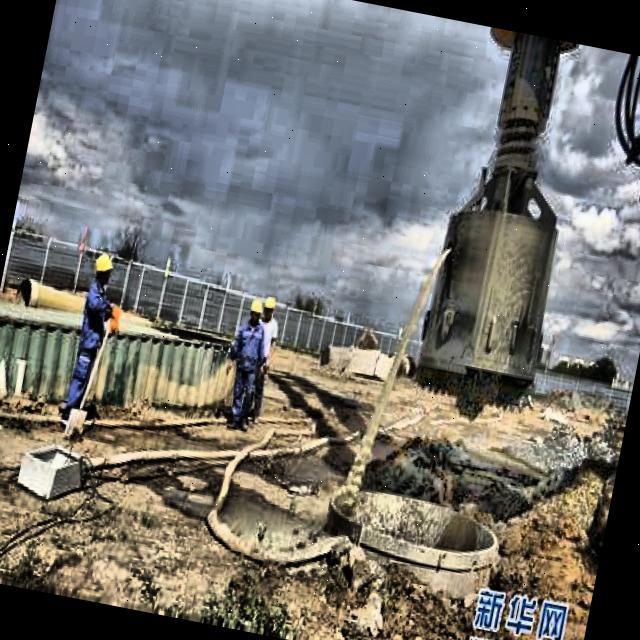helmet: (88, 244, 116, 290), (259, 290, 279, 326), (247, 296, 266, 331)
